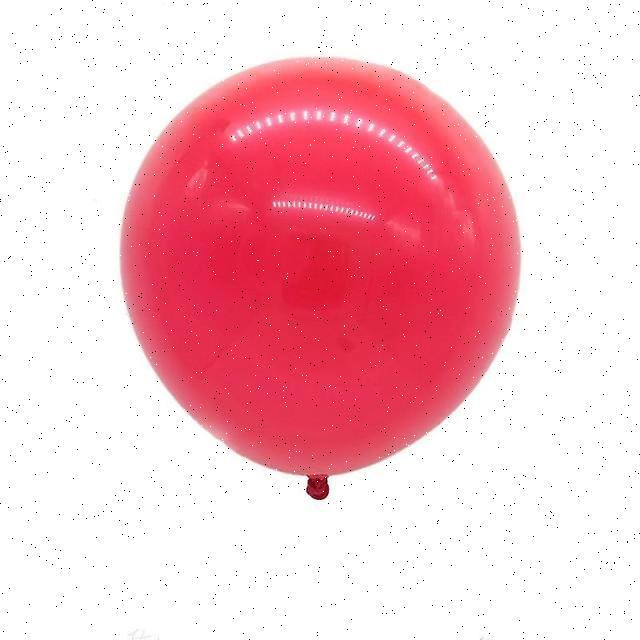red: (118, 54, 521, 499)
